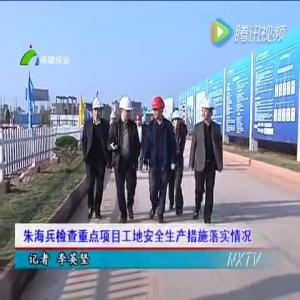red: (153, 96, 165, 120)
white: (119, 95, 134, 120), (202, 98, 216, 122), (91, 97, 104, 122), (171, 111, 183, 130)
